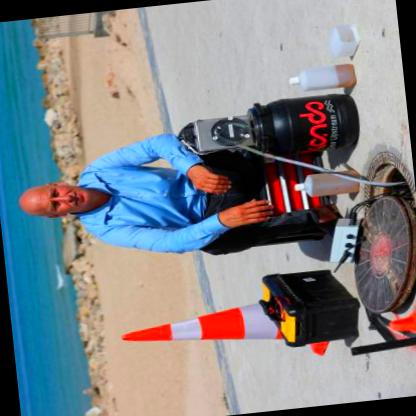manholes: (296, 135, 416, 352)
